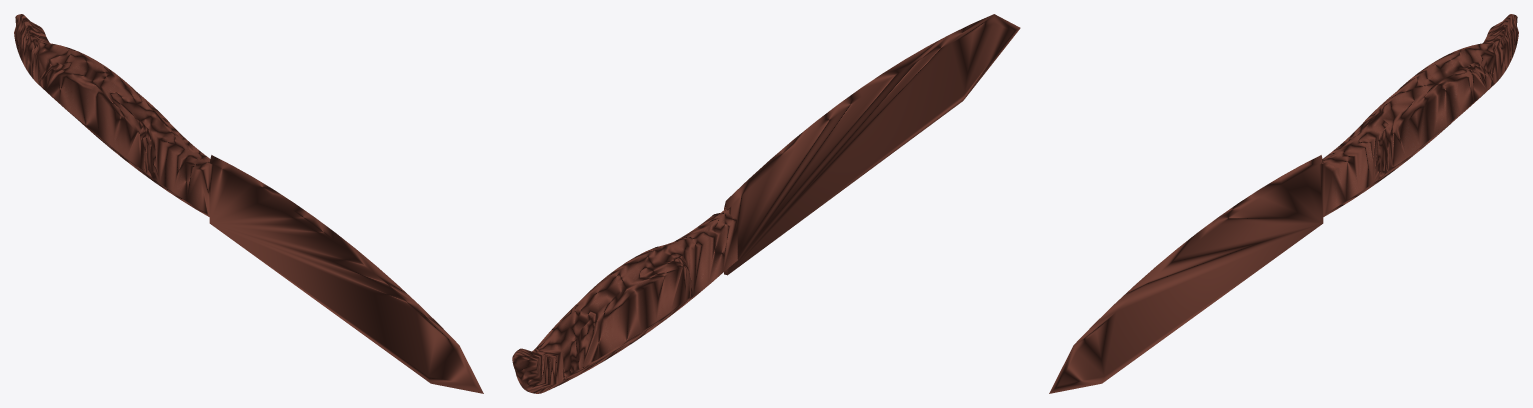
Rendered from model_align.obj.
3 renders of one model, left to right at view 1: azimuth 30°, elevation 25°; view 2: azimuth 150°, elevation 25°; view 3: azimuth 330°, elevation 25°, orthographic. The views are drawn at different scales.
Size of the model in its own units: 0.0097 by 0.0223 by 0.2315.
3 materials, 3 textured.
